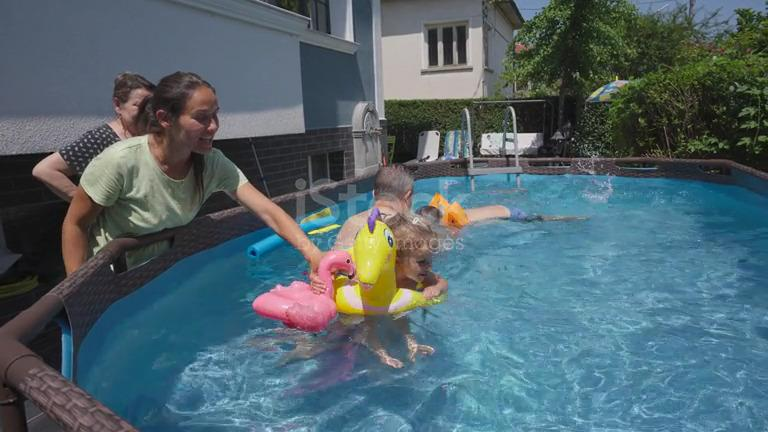Swimming: (258, 161, 485, 378)
